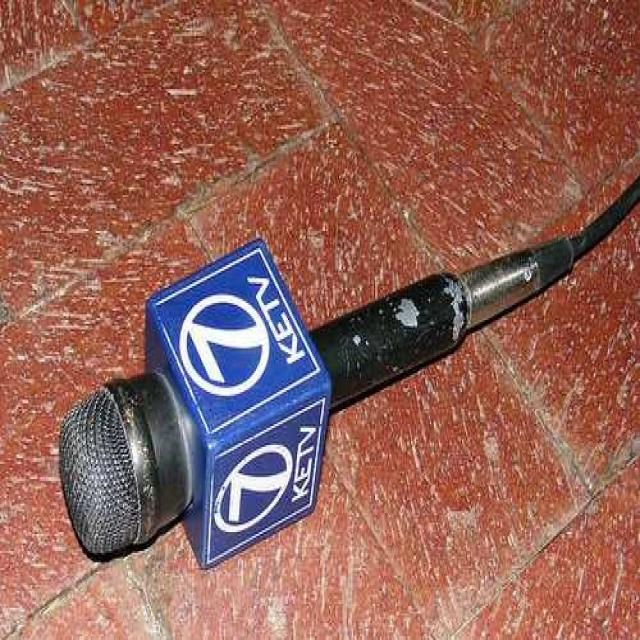microphone: (57, 133, 633, 564)
